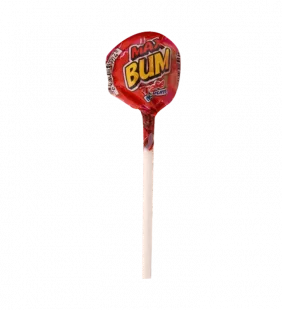PAPILLON: (99, 26, 189, 284)
